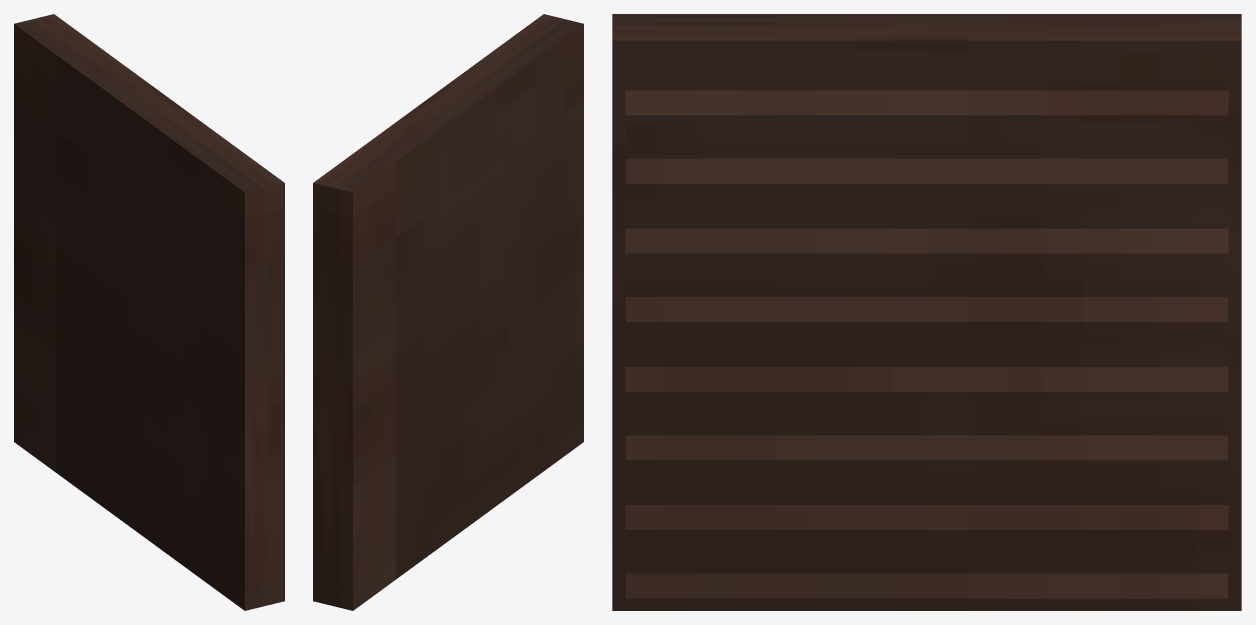
File: bookshelf.fbx
The picture shows the model from 3 angles, left to right: view 1: azimuth 30°, elevation 25°; view 2: azimuth 150°, elevation 25°; view 3: azimuth 270°, elevation 25°; orthographic projection. The views are drawn at different scales.
Parts seen in each view (by area): view 1: Cube; view 2: Cube; view 3: Cube.
Part boxes in pixels (<box>): Cube: <box>14,14,284,610</box>; Cube: <box>313,14,583,610</box>; Cube: <box>612,14,1241,610</box>.
Size of the model in its own units: 51.02 by 510 by 510.
1 material, 1 textured.
